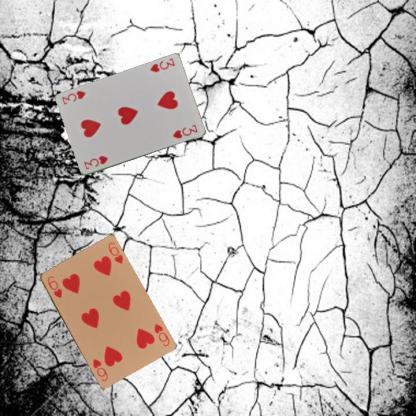3h: (148, 55, 176, 74), (81, 153, 109, 171)
6h: (44, 273, 63, 299), (152, 321, 170, 348)
